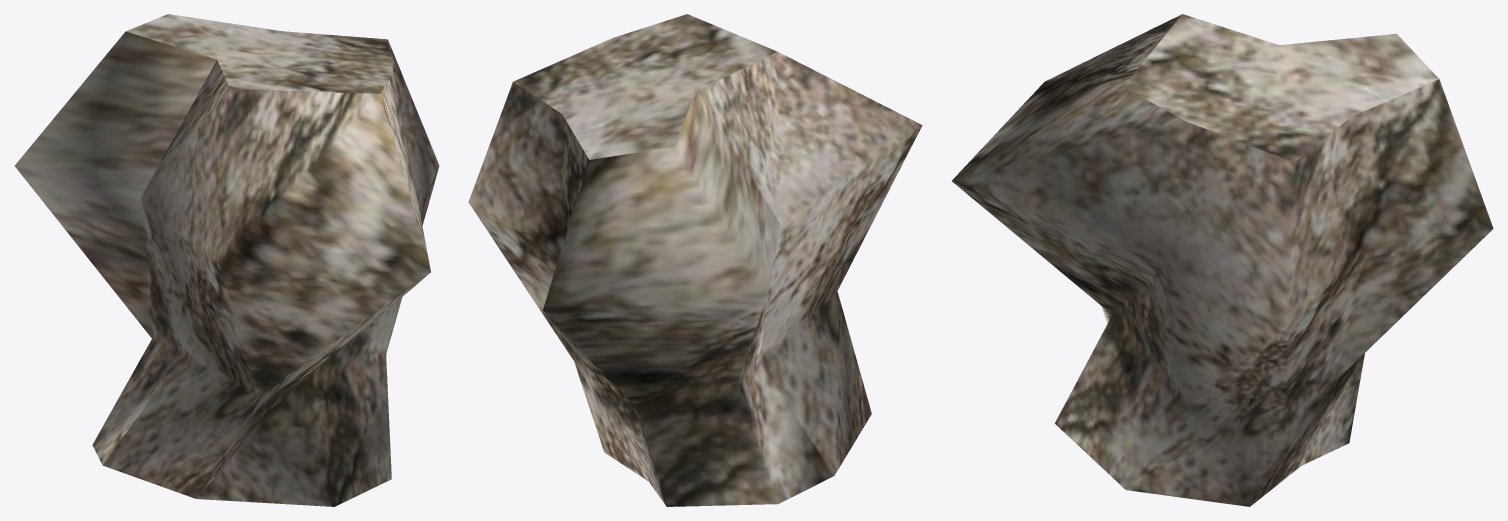
Rendered from stone.obj.
The picture shows the model from 3 angles, left to right: view 1: azimuth 30°, elevation 25°; view 2: azimuth 150°, elevation 25°; view 3: azimuth 270°, elevation 25°; orthographic projection. The views are drawn at different scales.
Parts seen in each view (by area): view 1: stone; view 2: stone; view 3: stone.
Part boxes in pixels (x1=…): stone: x1=14, y1=14, x2=439, y2=506; stone: x1=468, y1=14, x2=922, y2=506; stone: x1=952, y1=14, x2=1493, y2=506.
Bounding box in the file's own units: 51.46 × 56.07 × 65.21.
